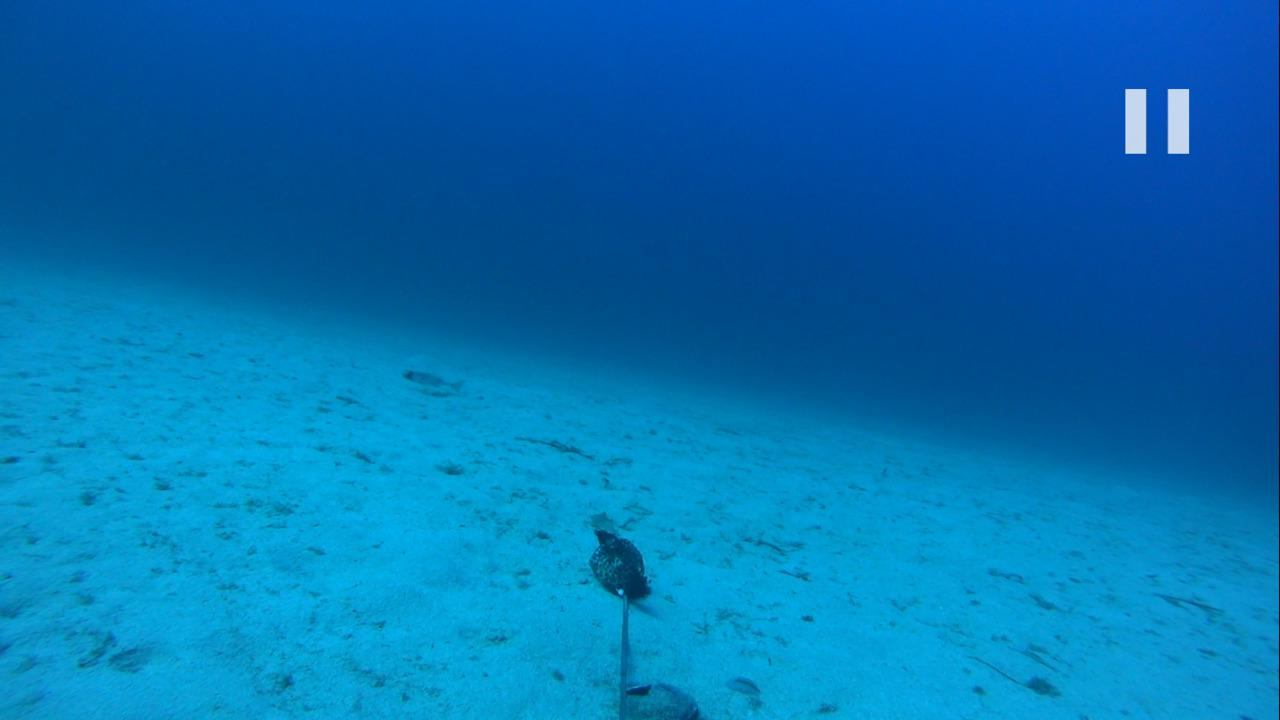dactylopterus: (392, 365, 470, 399)
